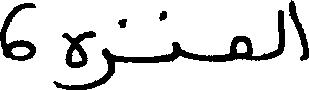X: (0, 0, 35, 65), (62, 26, 93, 89), (290, 0, 308, 65), (95, 28, 113, 89), (231, 31, 252, 65), (276, 5, 282, 61), (172, 37, 179, 66)
